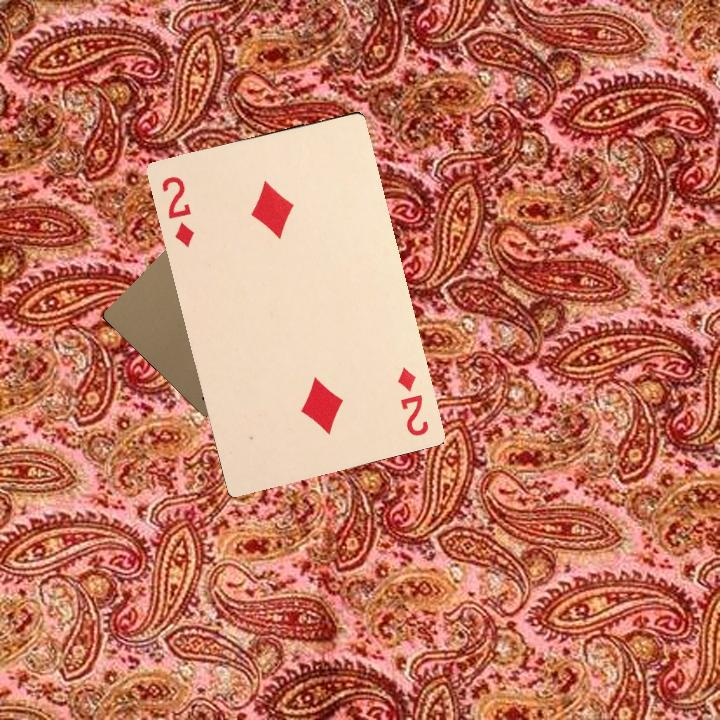2d: (157, 172, 197, 249), (393, 363, 431, 439)
